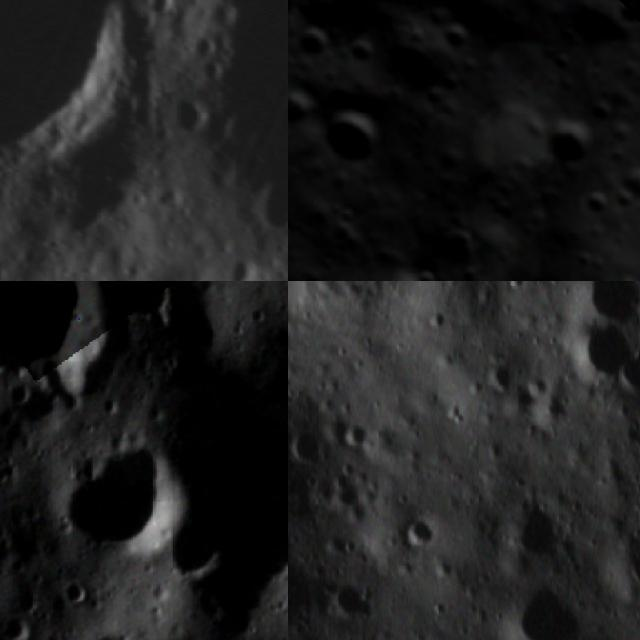crater: (124, 0, 288, 281), (0, 0, 171, 238), (52, 432, 181, 571), (0, 281, 100, 403), (314, 92, 393, 170), (527, 106, 601, 180), (502, 494, 570, 571), (505, 580, 588, 640), (157, 81, 224, 150), (572, 316, 638, 386), (288, 9, 347, 64), (246, 168, 288, 245), (574, 281, 640, 324), (330, 573, 382, 624), (120, 281, 176, 321), (342, 28, 388, 73), (288, 78, 325, 129), (575, 182, 618, 225), (288, 426, 332, 467), (436, 16, 476, 56), (402, 514, 444, 552), (604, 0, 640, 43), (485, 358, 523, 394), (81, 623, 158, 640), (58, 575, 92, 611), (344, 421, 376, 458), (409, 257, 457, 281), (144, 0, 182, 27), (3, 616, 32, 640), (17, 587, 43, 613), (288, 216, 304, 258), (626, 547, 640, 587), (42, 628, 63, 640)
